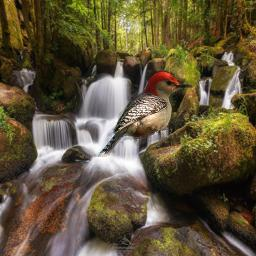Woodpecker: (94, 69, 195, 157)
